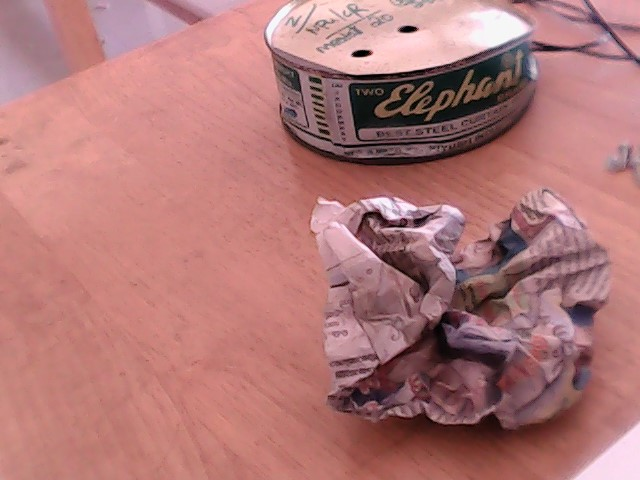Metal: (264, 0, 529, 139)
paper: (291, 194, 594, 412)
